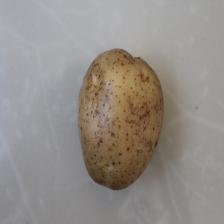Diseased-fungal potato: (78, 43, 164, 194)
